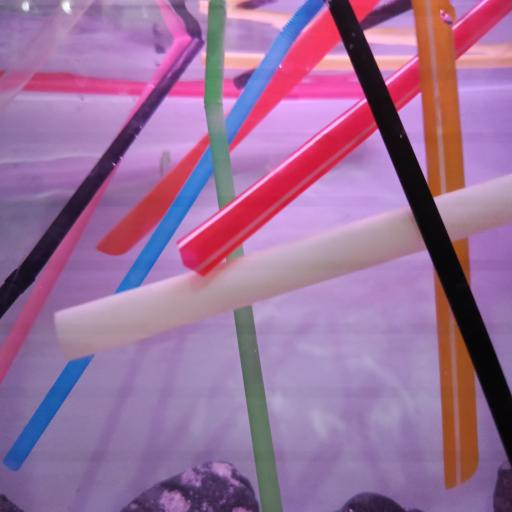plastic_straw: (0, 2, 331, 473), (176, 0, 512, 284), (52, 167, 512, 359), (93, 0, 381, 259), (1, 32, 191, 384), (2, 36, 204, 318), (200, 2, 283, 512), (412, 0, 482, 490), (0, 68, 366, 99), (0, 0, 96, 118), (198, 50, 512, 76)
